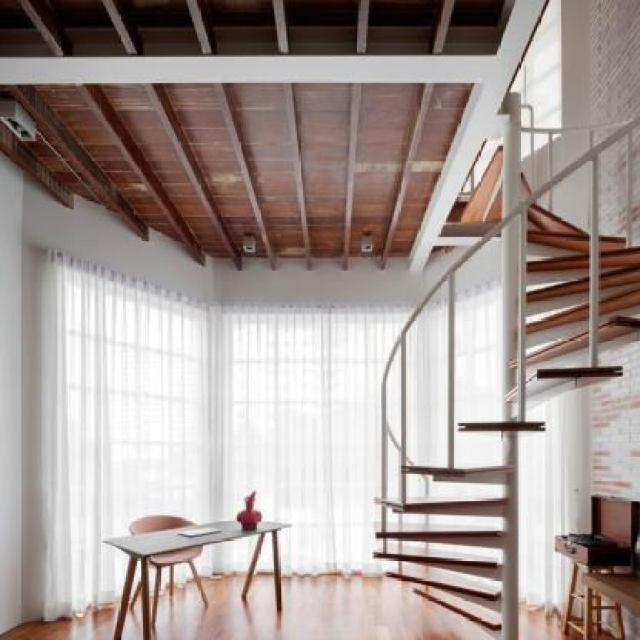stair: (363, 166, 639, 623)
